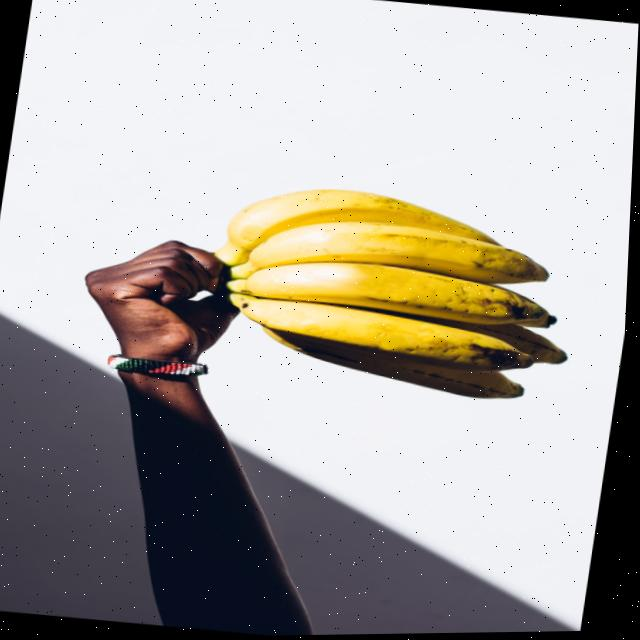Banana: (232, 293, 537, 372), (231, 262, 552, 325), (236, 221, 549, 284), (229, 189, 499, 250)
